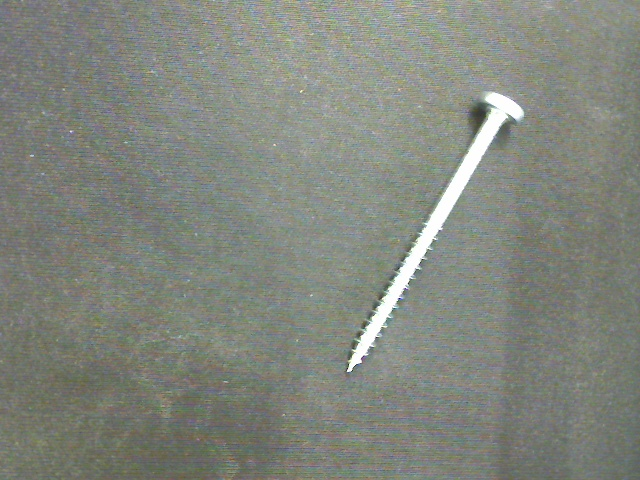Screw: (346, 92, 523, 373)
